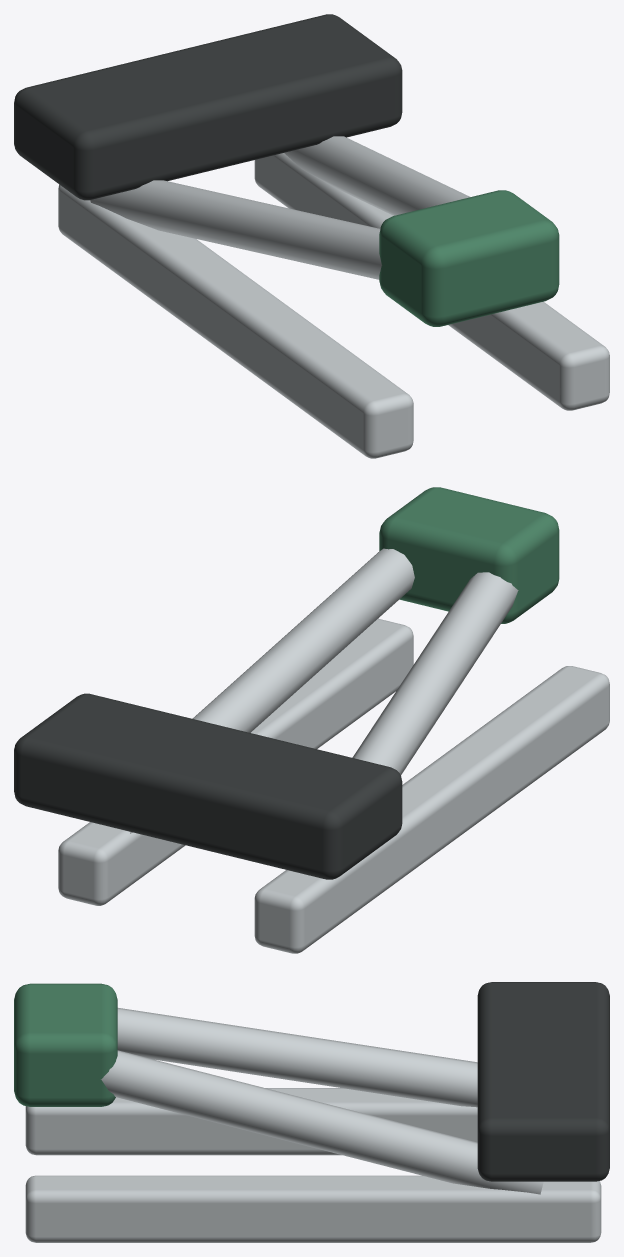
The model's file is clockmaker-and-watch-repair-hand-removal-tool-216ad4ca__30607.glb.
3 views of the same model, one above another, from view 1: azimuth 30°, elevation 25°; view 2: azimuth 150°, elevation 25°; view 3: azimuth 270°, elevation 25° (orthographic). The views are drawn at different scales.
Parts seen in each view (by area): view 1: hand-removal-tool; view 2: hand-removal-tool; view 3: hand-removal-tool.
Boxes of the visible parts, <box> form: hand-removal-tool: <box>14,14,609,458</box>; hand-removal-tool: <box>14,487,609,953</box>; hand-removal-tool: <box>14,982,609,1242</box>.
Size of the model in its own units: 0.06 by 0.035 by 0.1035.
